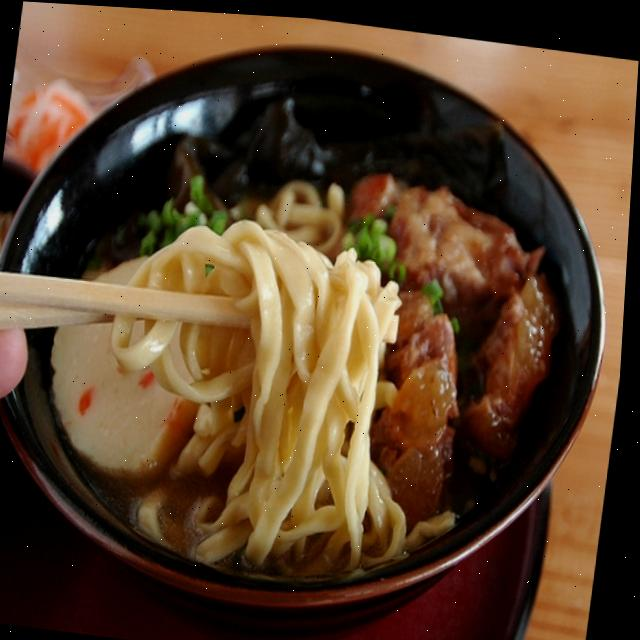面包点心: (0, 13, 639, 640)
